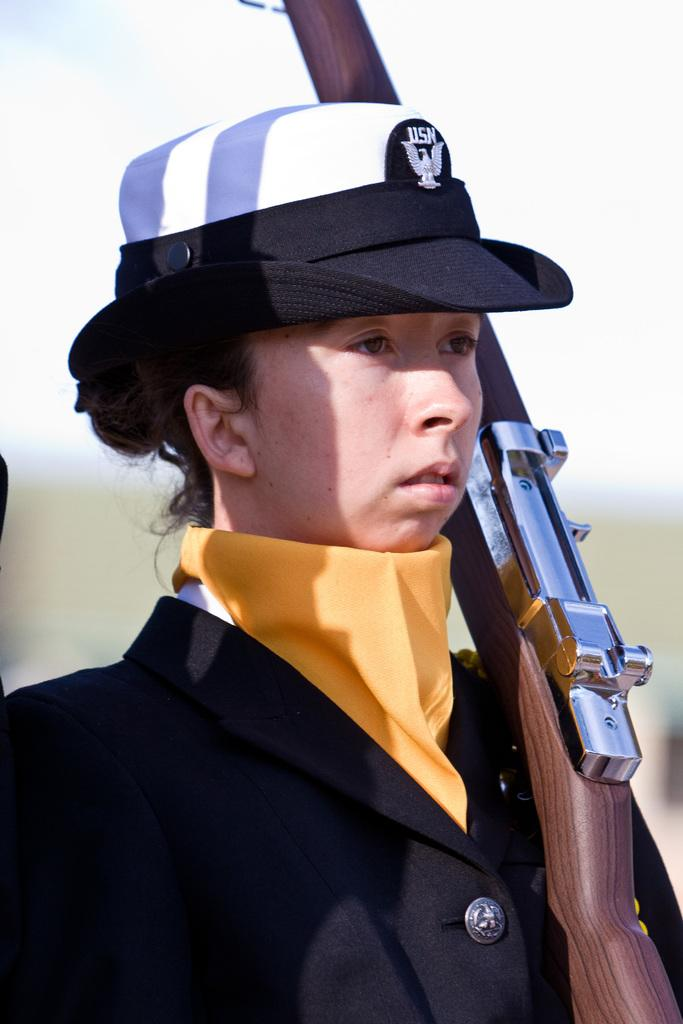Hat: (67, 98, 572, 386)
